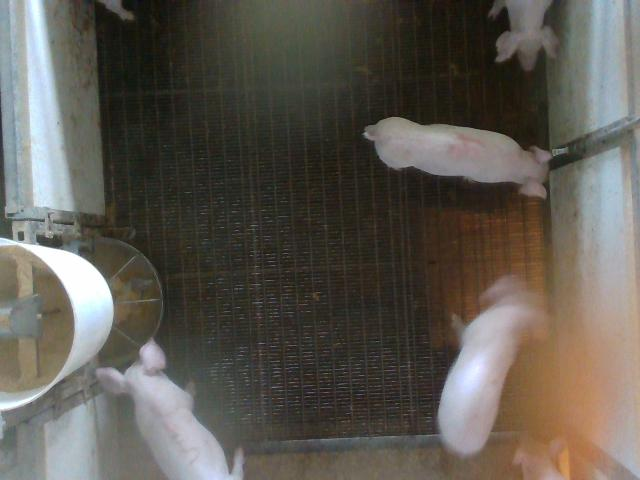pig-3: (96, 339, 242, 479)
pig-4: (364, 118, 550, 197)
